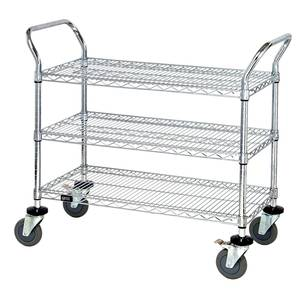Carts: (13, 18, 292, 280)
